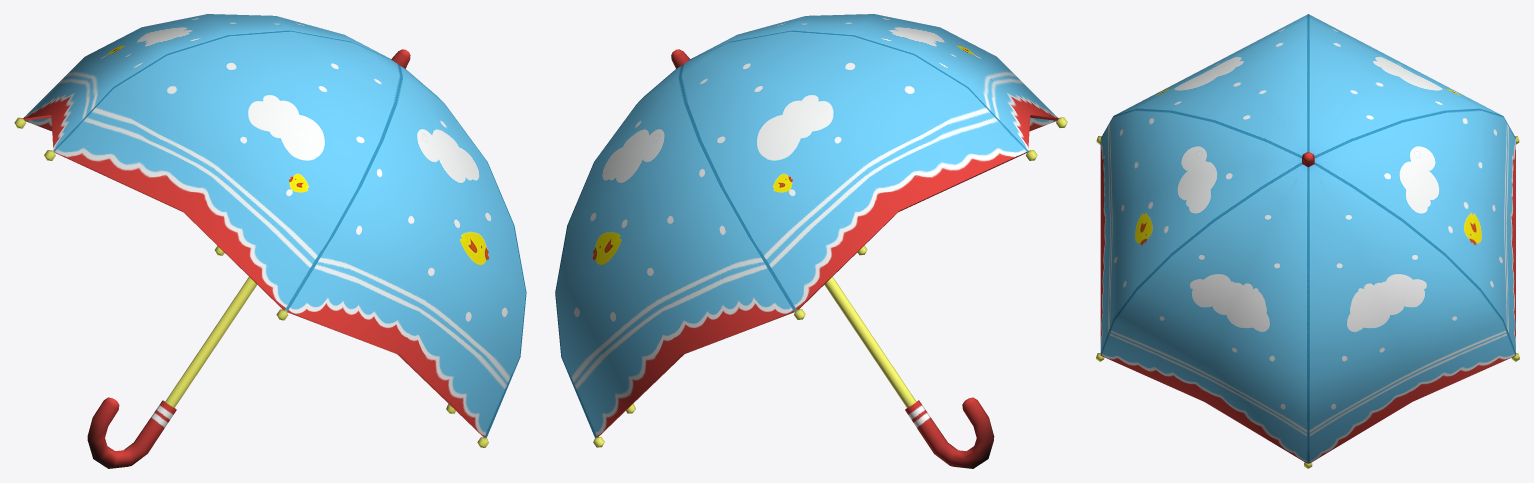
Rendered from Umbrella.fbx.
3 views of the same model, side by side, from view 1: azimuth 30°, elevation 25°; view 2: azimuth 150°, elevation 25°; view 3: azimuth 270°, elevation 25° (orthographic). The views are drawn at different scales.
Visible parts, largest first — view 1: 089; view 2: 089; view 3: 089.
Boxes of the visible parts, bbox=[...] form: 089: bbox=[14, 14, 526, 468]; 089: bbox=[555, 14, 1067, 468]; 089: bbox=[1096, 14, 1519, 468].
Bounding box in the file's own units: 57.51 × 52.22 × 58.61.
Materials: 1 (1 with a texture image).
